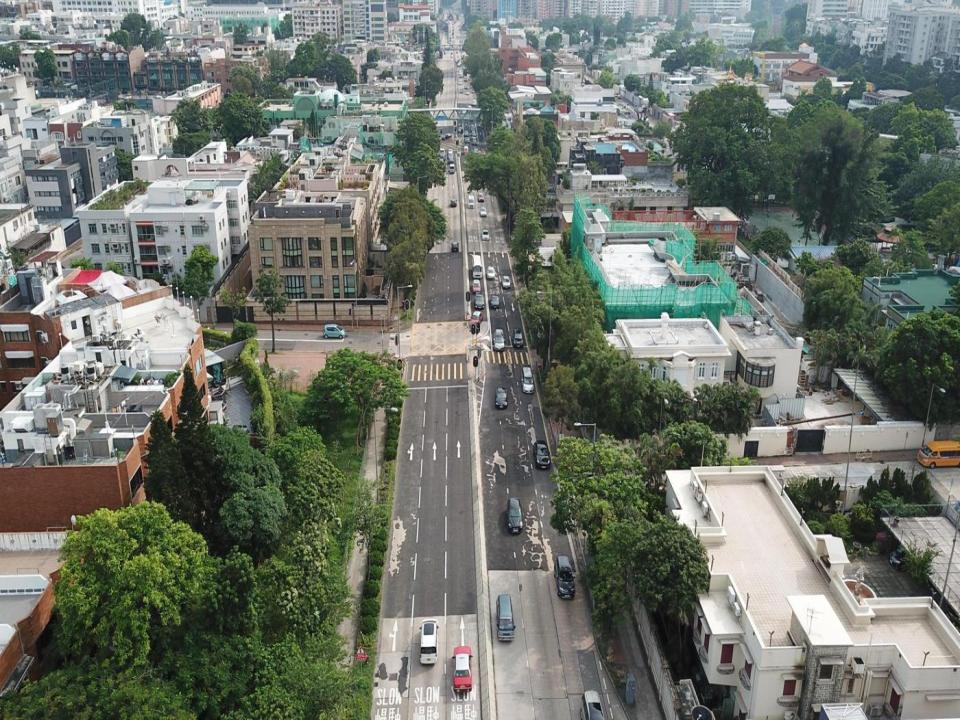bus: (472, 253, 482, 280)
car: (452, 646, 473, 693), (505, 498, 524, 533), (533, 439, 550, 470), (322, 323, 346, 339), (468, 310, 483, 329), (494, 388, 507, 408), (512, 327, 524, 348), (494, 328, 504, 351), (474, 293, 485, 308), (490, 294, 500, 308), (502, 274, 511, 289), (481, 228, 489, 242), (487, 266, 495, 279), (450, 241, 458, 254), (472, 279, 480, 292), (478, 192, 485, 204), (480, 204, 486, 217), (450, 198, 456, 206)
van: (916, 441, 960, 469), (495, 595, 516, 642), (554, 556, 576, 600), (419, 617, 438, 665), (580, 691, 606, 719), (523, 366, 534, 394), (467, 195, 474, 209), (449, 162, 455, 174)
